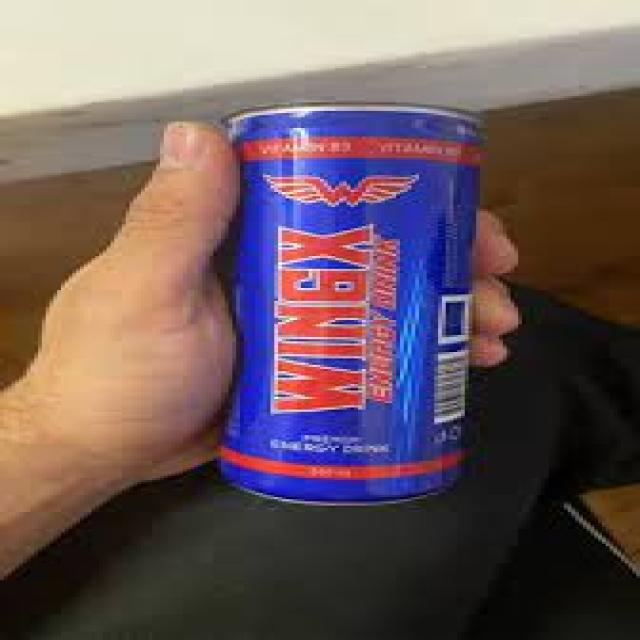Cans: (194, 98, 499, 514)
